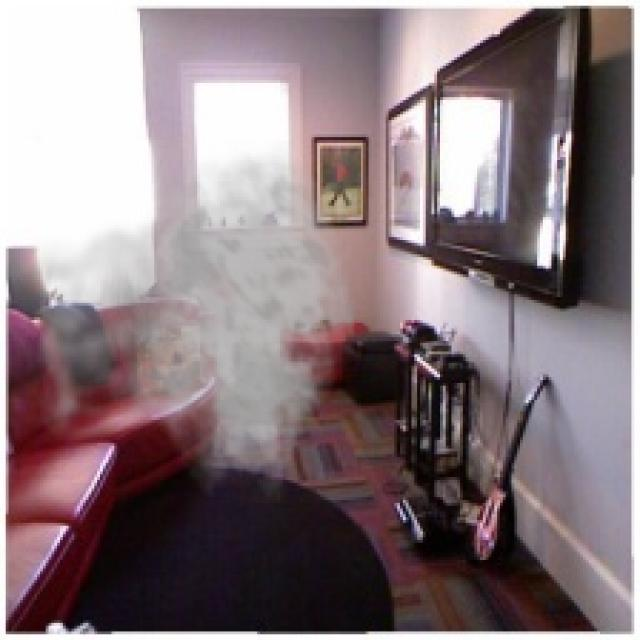smoke: (6, 140, 357, 503)
